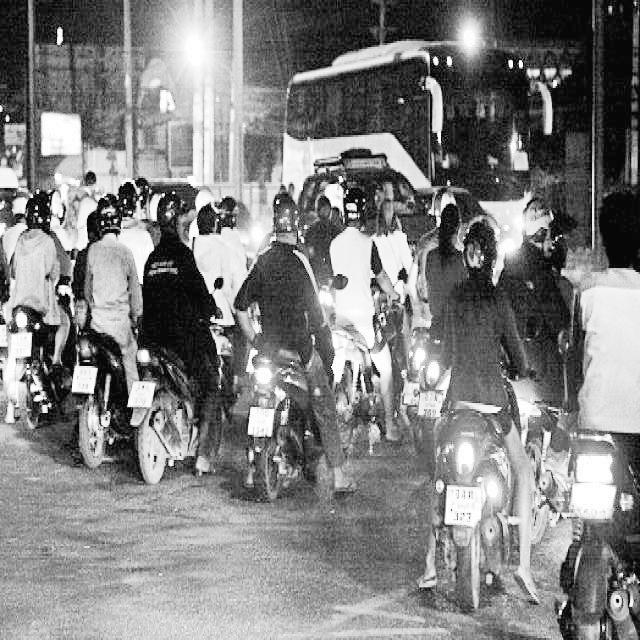Bus: (252, 28, 562, 249)
Motorcycle: (520, 354, 640, 638), (215, 307, 356, 504), (416, 426, 549, 608), (333, 307, 440, 469), (135, 317, 206, 505), (401, 315, 473, 473), (61, 319, 134, 466), (2, 294, 58, 455)
